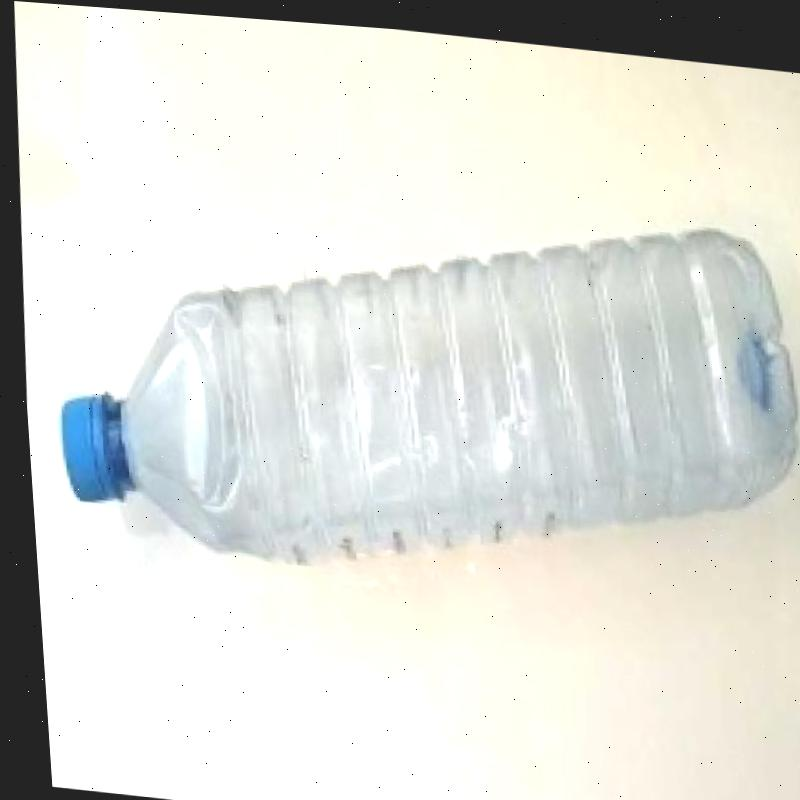botella: (36, 153, 800, 614)
